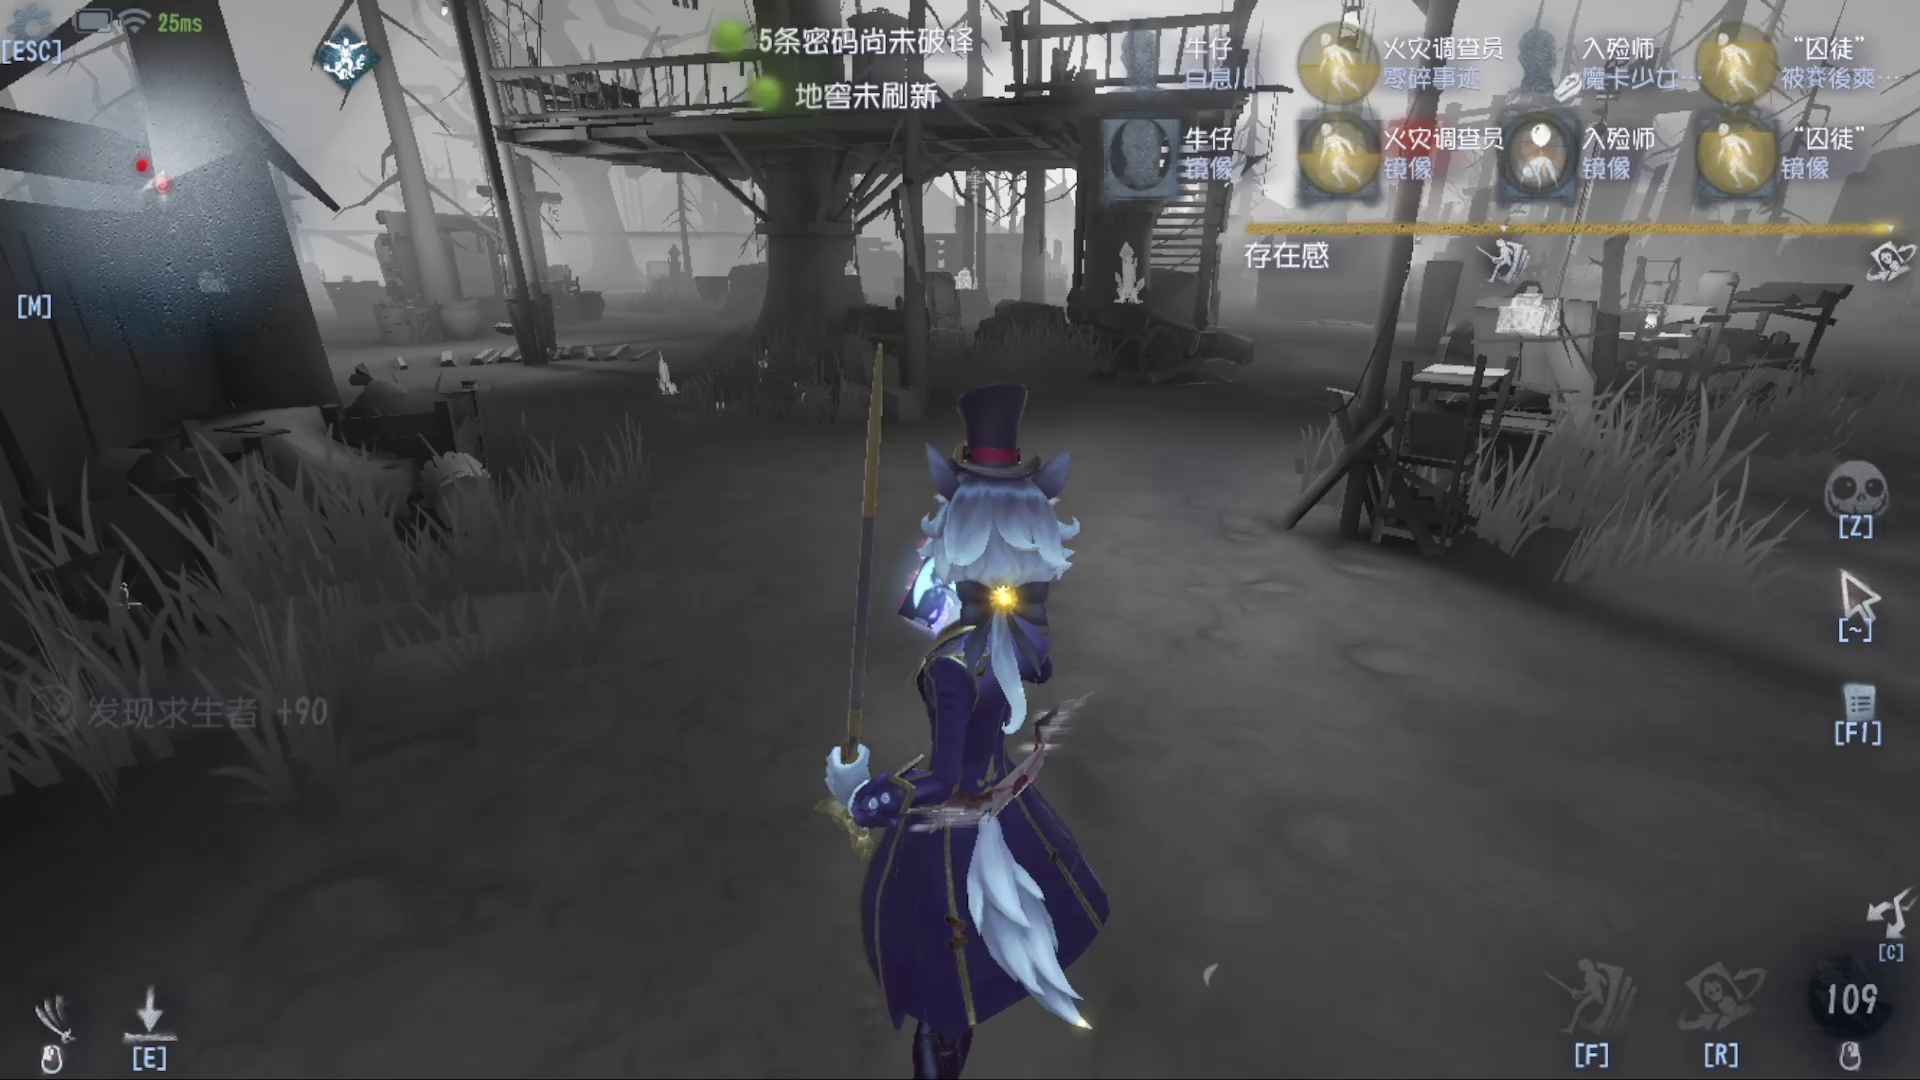狂欢之椅: (1110, 222, 1164, 332)
